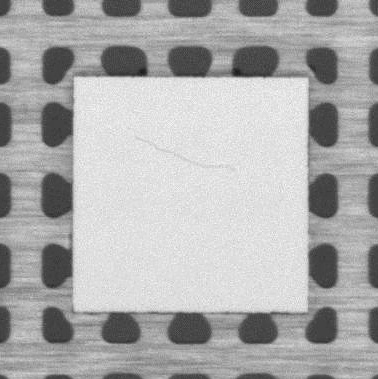DIE_CRACK: (134, 134, 235, 172)
